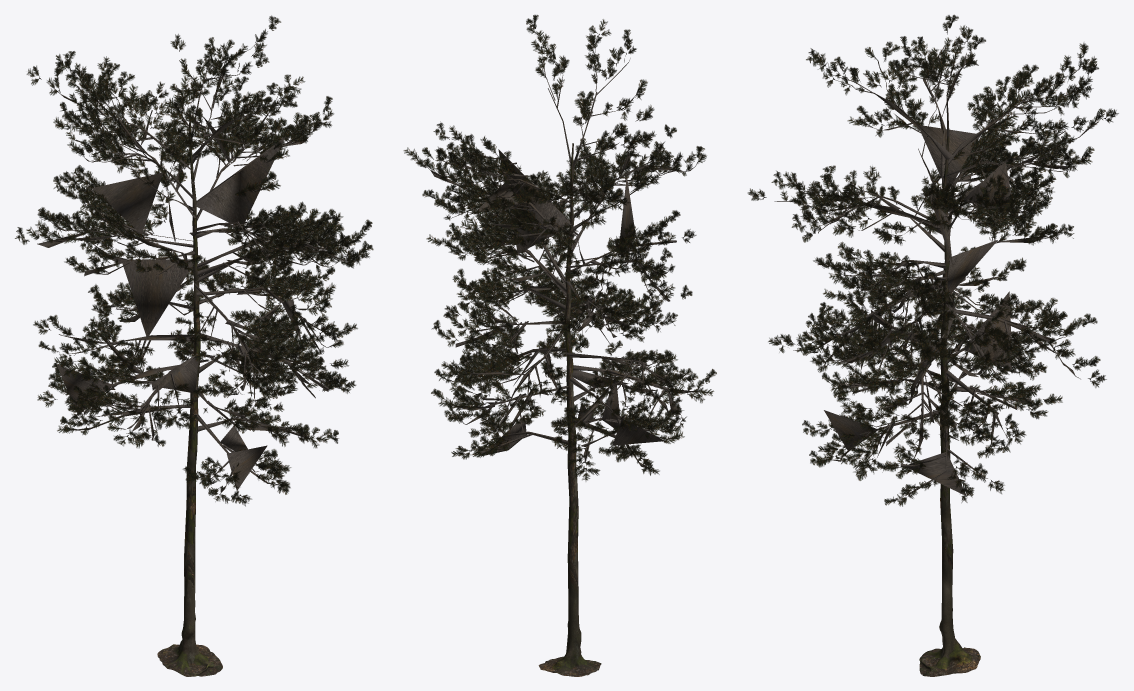
Rendered from pine_tree_01_b_near.glb.
3 renders of one model, left to right at view 1: azimuth 30°, elevation 25°; view 2: azimuth 150°, elevation 25°; view 3: azimuth 270°, elevation 25°, orthographic. The views are drawn at different scales.
Visible parts, largest first — view 1: pine_tree_01_b_near; view 2: pine_tree_01_b_near; view 3: pine_tree_01_b_near.
Boxes of the visible parts, x1,y1,x2,y2 form: pine_tree_01_b_near: [15, 15, 373, 676]; pine_tree_01_b_near: [403, 15, 716, 676]; pine_tree_01_b_near: [747, 14, 1118, 676].
Bounding box in the file's own units: 7.22 × 14.88 × 7.62.
3 materials, 3 textured.
